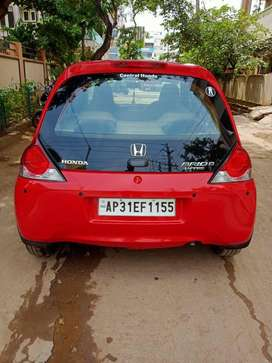AP31EF1155: (98, 197, 174, 216)
